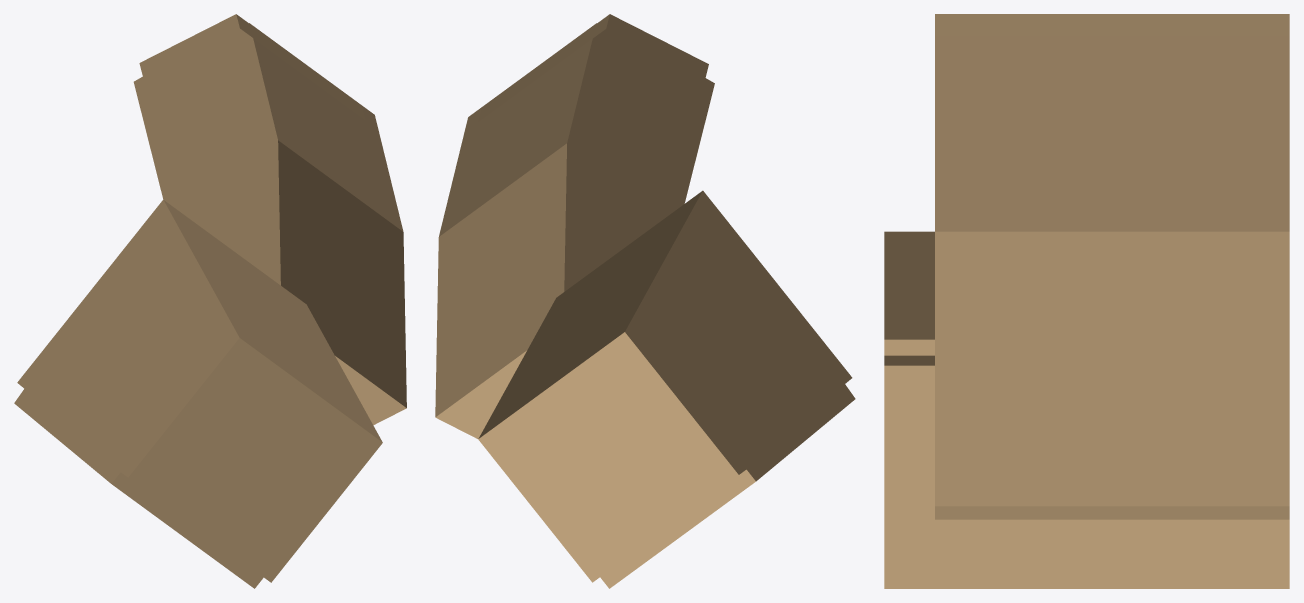
3 renders of one model, left to right at view 1: azimuth 30°, elevation 25°; view 2: azimuth 150°, elevation 25°; view 3: azimuth 270°, elevation 25°, orthographic. The views are drawn at different scales.
Parts seen in each view (by area): view 1: 0_1_0_2_0_0_0_3_3; view 2: 0_1_0_2_0_0_0_3_3; view 3: 0_1_0_2_0_0_0_3_3.
Boxes of the visible parts, x1,y1,x2,y2 form: 0_1_0_2_0_0_0_3_3: [14, 14, 406, 588]; 0_1_0_2_0_0_0_3_3: [435, 14, 855, 588]; 0_1_0_2_0_0_0_3_3: [884, 14, 1289, 588].
Size of the model in its own units: 25.85 by 40.6 by 24.
